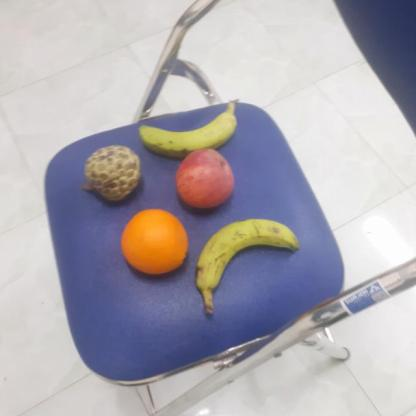annona: (80, 142, 142, 201)
apple: (174, 147, 239, 211)
banana: (193, 217, 300, 288), (138, 104, 240, 155)
orange: (119, 208, 191, 278)
